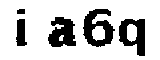6: (81, 6, 115, 52)
a: (46, 16, 77, 51)
i: (11, 6, 34, 52)
q: (119, 16, 148, 59)
